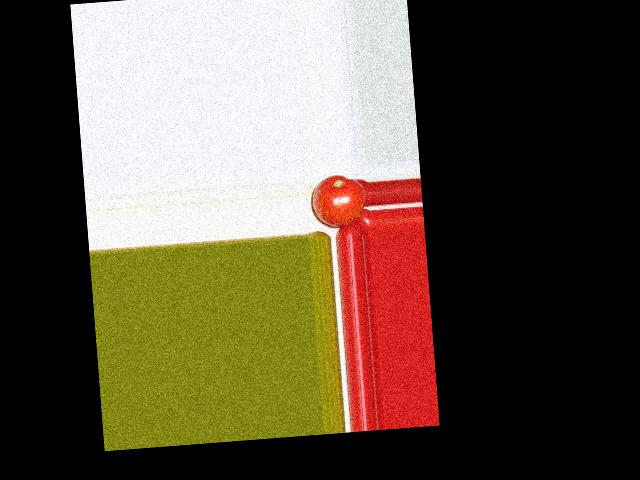tomato: (310, 172, 367, 229)
